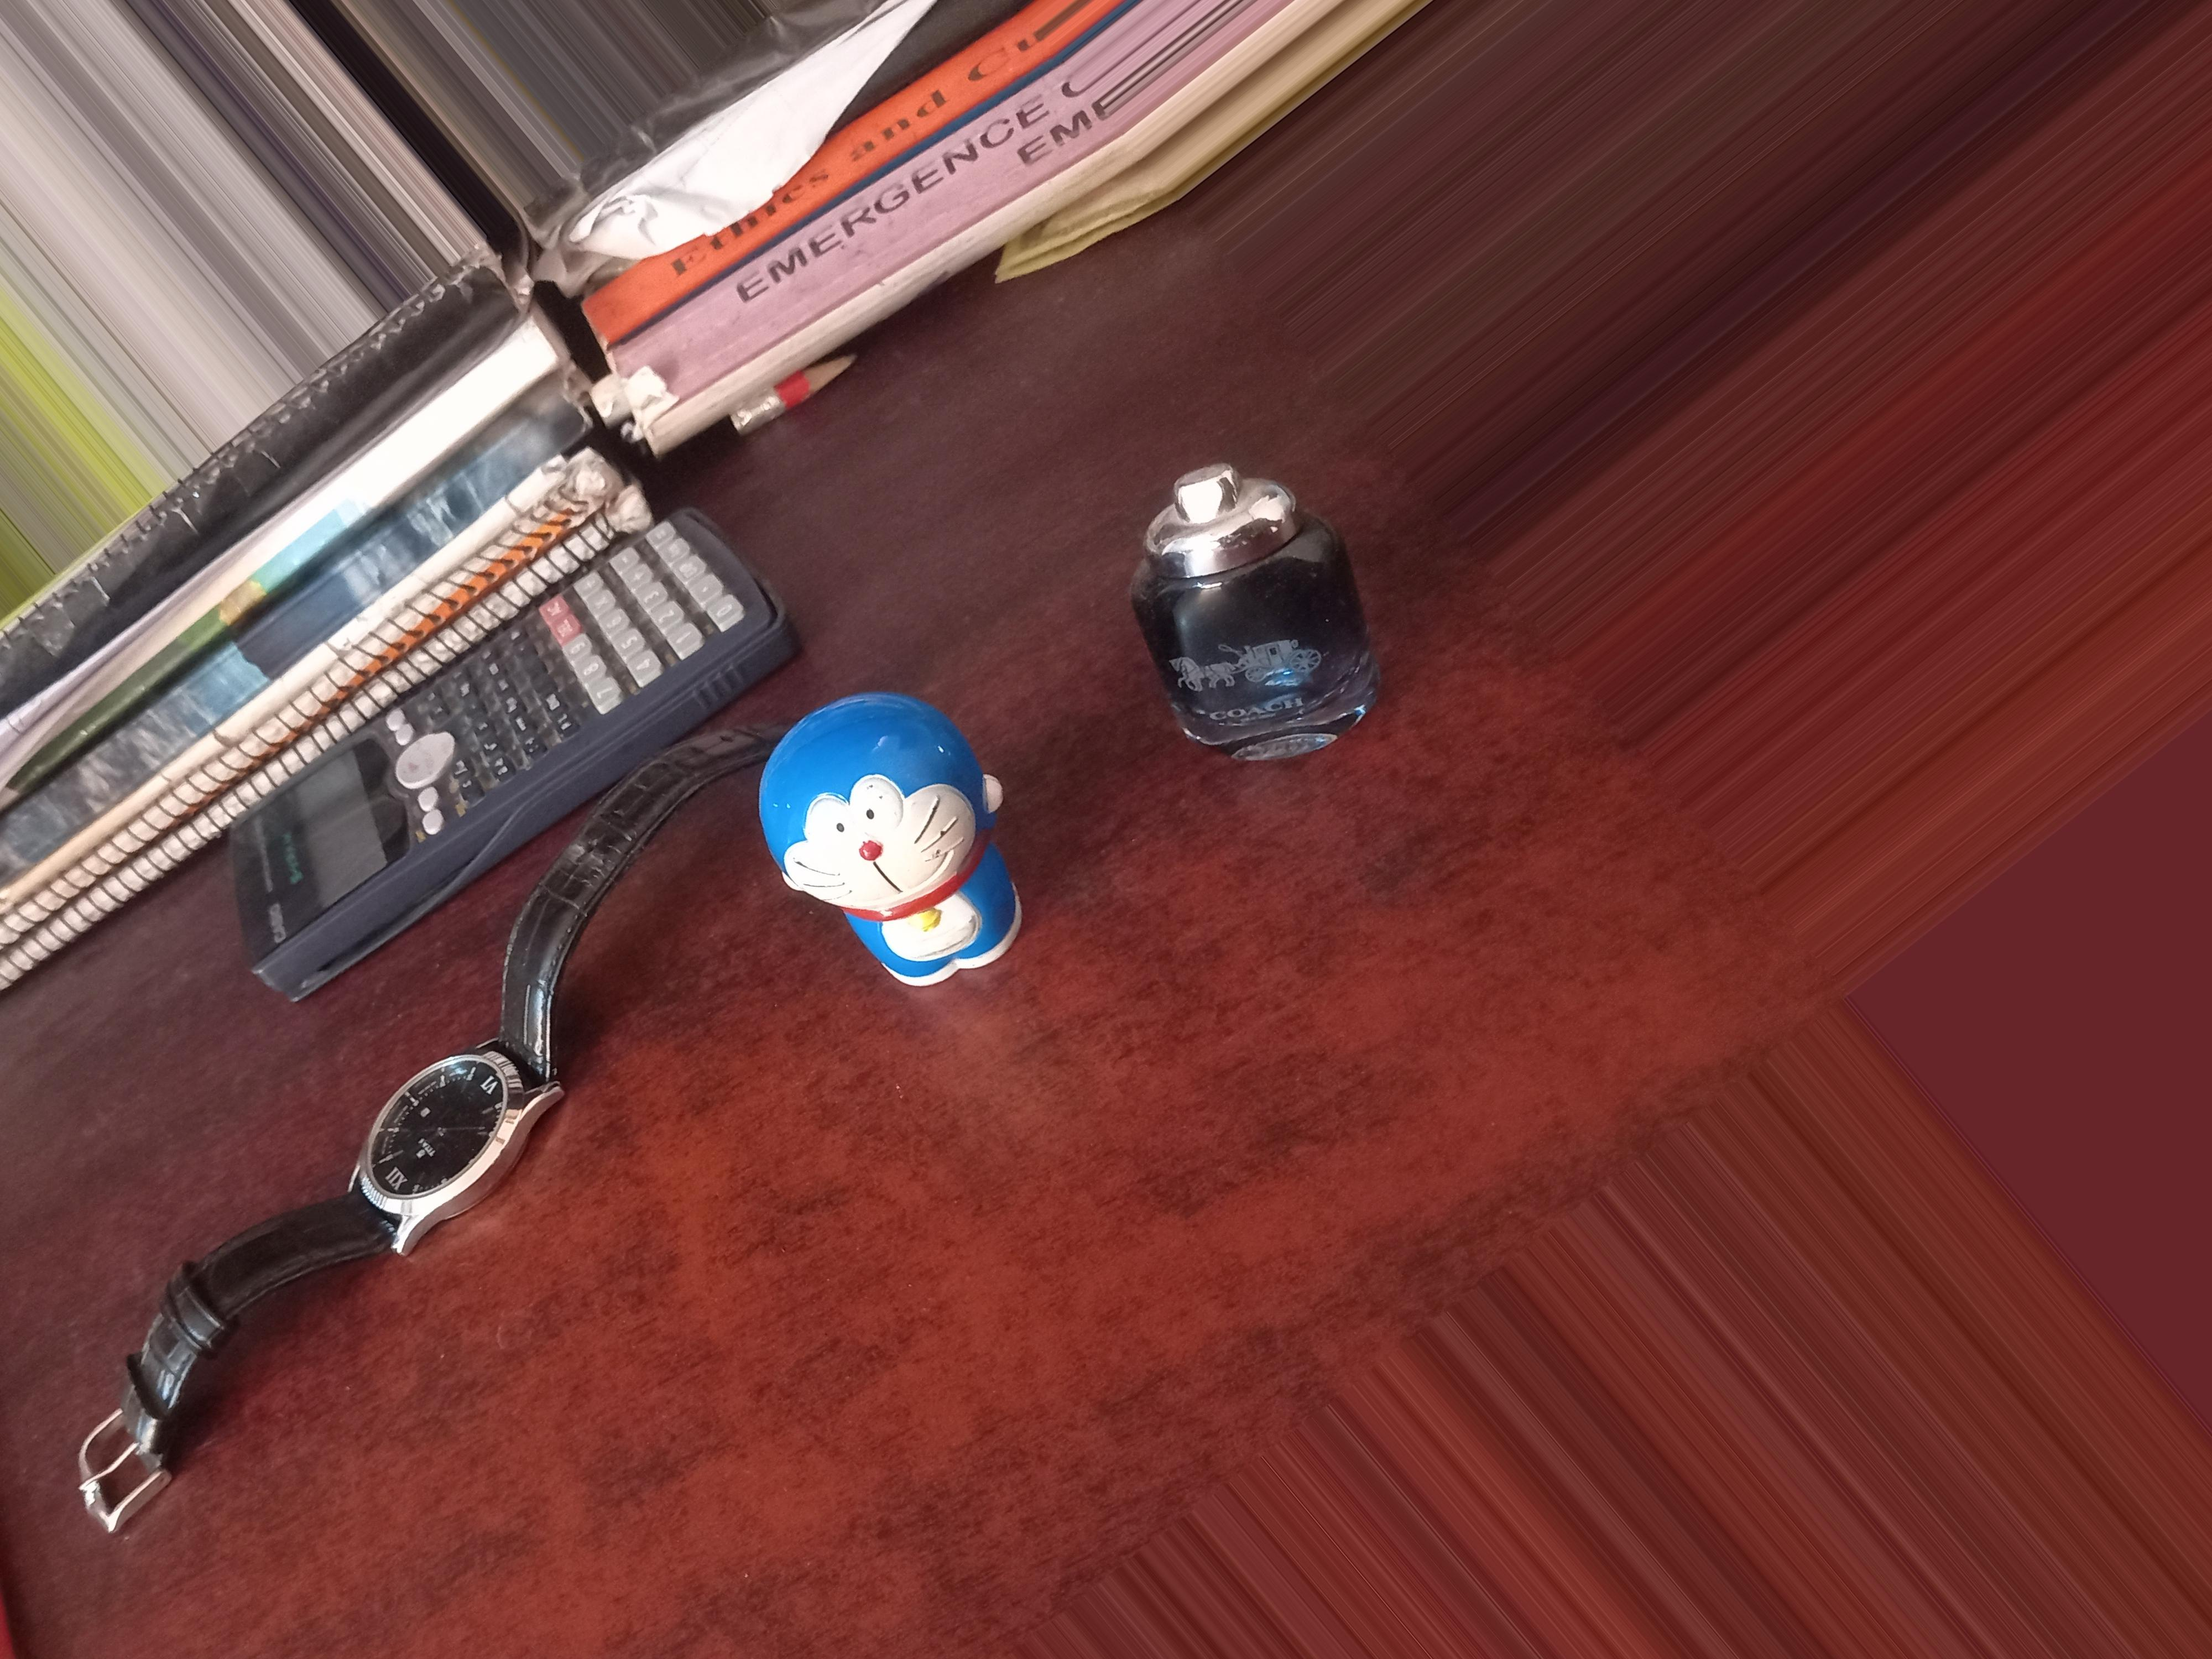calculator: (355, 573, 622, 767)
doraemon: (761, 770, 1062, 995)
perfume: (1136, 498, 1413, 749)
watch: (134, 1032, 672, 1551)
